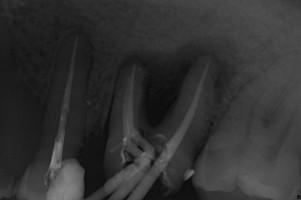Dental Caries: (123, 41, 235, 126)
